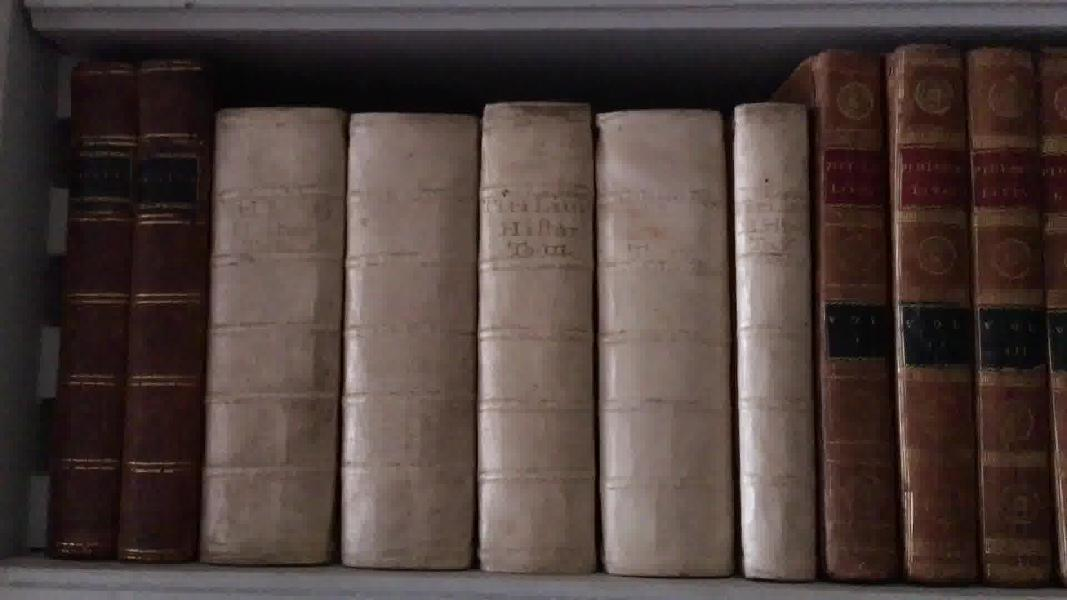Kk4-1_2: (38, 40, 221, 581)
Kk4-3_7: (202, 97, 832, 600)
Kk4-8_13: (798, 36, 1067, 600)
